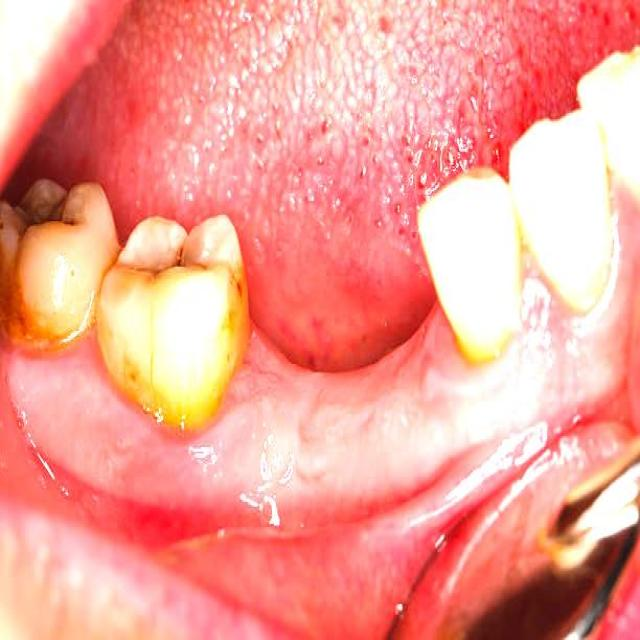caries: (122, 222, 208, 311), (6, 184, 86, 264)
